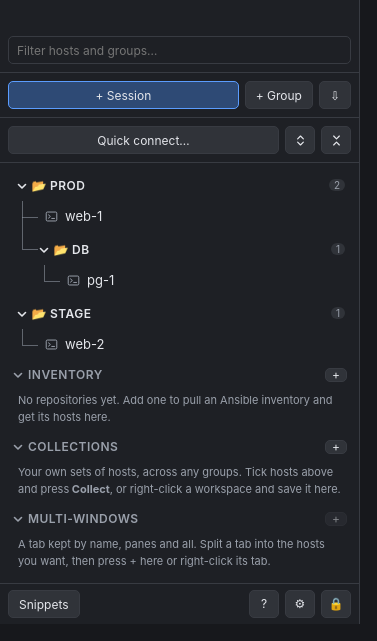
finding and folding folders › closes and opens every folder at once
expect the text "pg-1" is shown: met, box left=66, top=272, right=114, bottom=290
Click the button named "Collapse all" at (336, 140), box left=321, top=126, right=351, bottom=154
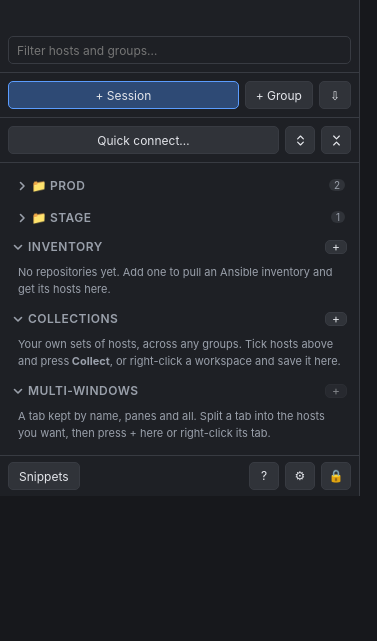
expect the text "stage" is shown: met, box left=50, top=210, right=92, bottom=224
expect the text "web-1" is gone: met
expect the text "db" is gone: met
Click the button named "Expand all" at (300, 140), box left=285, top=126, right=315, bottom=154
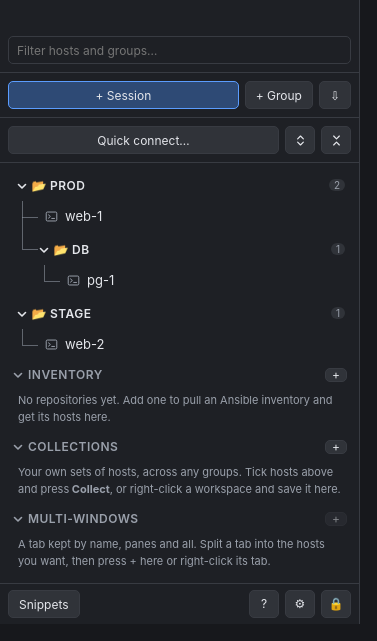
expect the text "web-1" is shown: met, box left=44, top=208, right=102, bottom=226
expect the text "pg-1" is shown: met, box left=66, top=272, right=114, bottom=290
expect the text "web-2" is shown: met, box left=44, top=336, right=104, bottom=354
